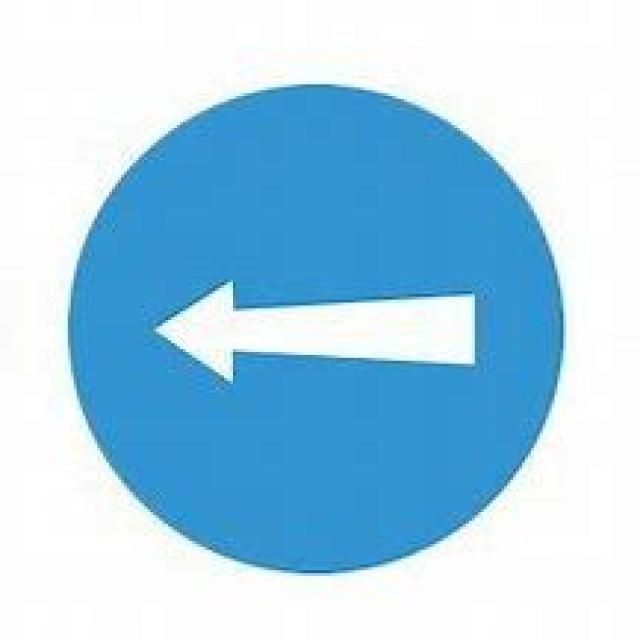COMPULSARY_TURN_LEFT: (65, 82, 566, 573)
